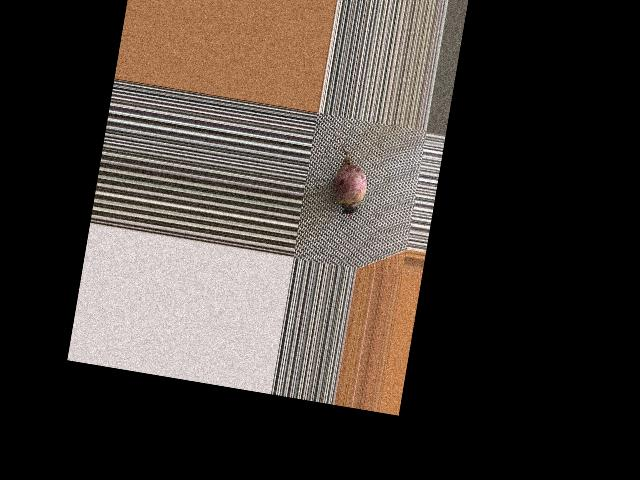beet: (314, 125, 374, 219)
